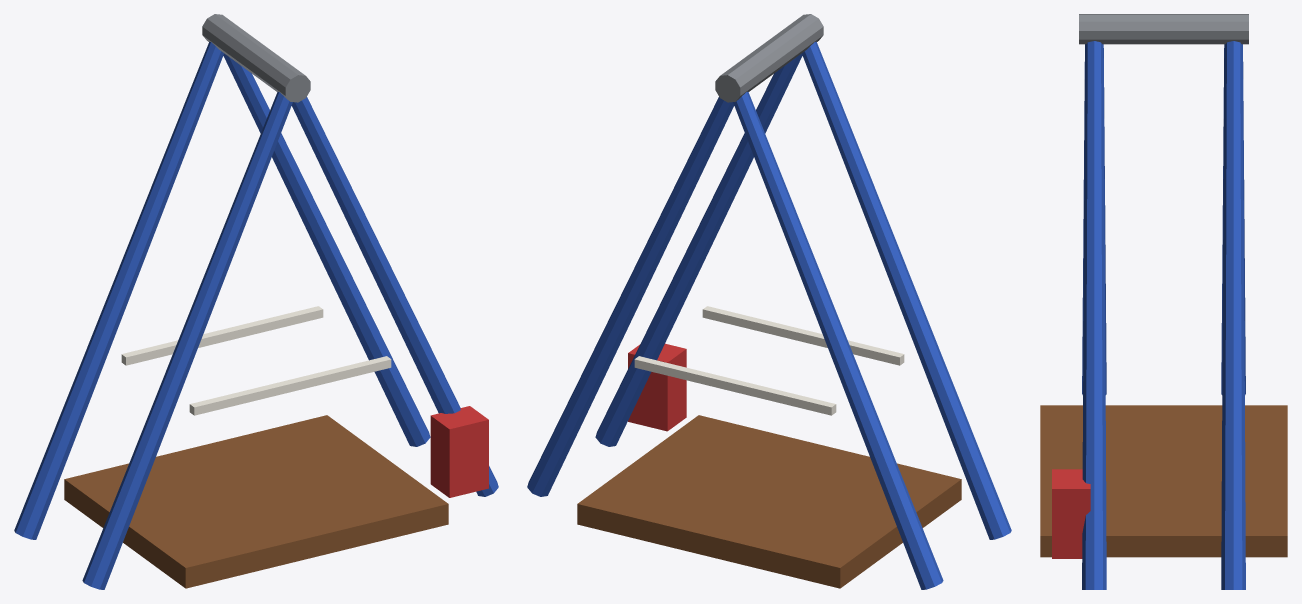
The model's file is ferris_stand.glb.
The picture shows the model from 3 angles, left to right: view 1: azimuth 30°, elevation 25°; view 2: azimuth 150°, elevation 25°; view 3: azimuth 270°, elevation 25°; orthographic projection.
Visible parts, largest first — view 1: legs_ferris_blue, platform_fair_deck, legs_fair_white, box_fair_red, axle_fair_steel; view 2: legs_ferris_blue, platform_fair_deck, legs_fair_white, axle_fair_steel, box_fair_red; view 3: platform_fair_deck, legs_ferris_blue, axle_fair_steel, box_fair_red.
Part boxes in pixels (bbox=[...]): legs_ferris_blue: bbox=[14, 41, 498, 589]; platform_fair_deck: bbox=[64, 415, 448, 588]; legs_fair_white: bbox=[121, 306, 391, 415]; box_fair_red: bbox=[430, 406, 488, 497]; axle_fair_steel: bbox=[202, 14, 310, 102]; legs_ferris_blue: bbox=[527, 41, 1011, 589]; platform_fair_deck: bbox=[577, 415, 961, 588]; legs_fair_white: bbox=[634, 306, 904, 415]; axle_fair_steel: bbox=[715, 14, 823, 102]; box_fair_red: bbox=[628, 343, 686, 431]; platform_fair_deck: bbox=[1040, 405, 1287, 557]; legs_ferris_blue: bbox=[1082, 41, 1245, 589]; axle_fair_steel: bbox=[1079, 14, 1248, 44]; box_fair_red: bbox=[1052, 469, 1090, 558].
Size of the model in its own units: 6.29 by 6.87 by 3.2.
